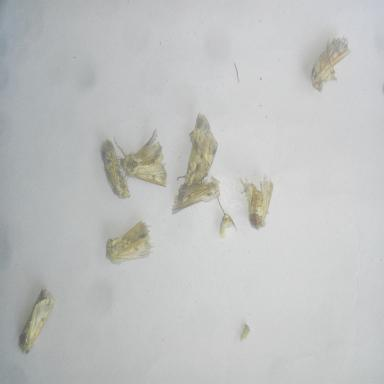abw: (174, 109, 222, 191), (110, 128, 170, 190), (16, 284, 58, 358), (169, 173, 227, 225), (307, 32, 352, 97), (103, 217, 156, 270), (237, 167, 279, 231), (96, 134, 132, 205)
